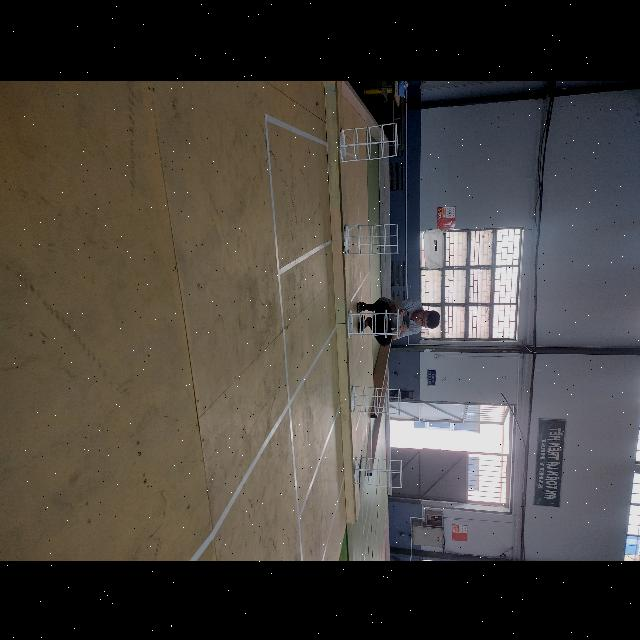S: (338, 122, 399, 160), (342, 223, 400, 255), (348, 308, 400, 339), (354, 456, 404, 488), (351, 384, 401, 414)
